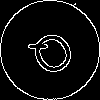Q: (25, 25, 84, 87)
